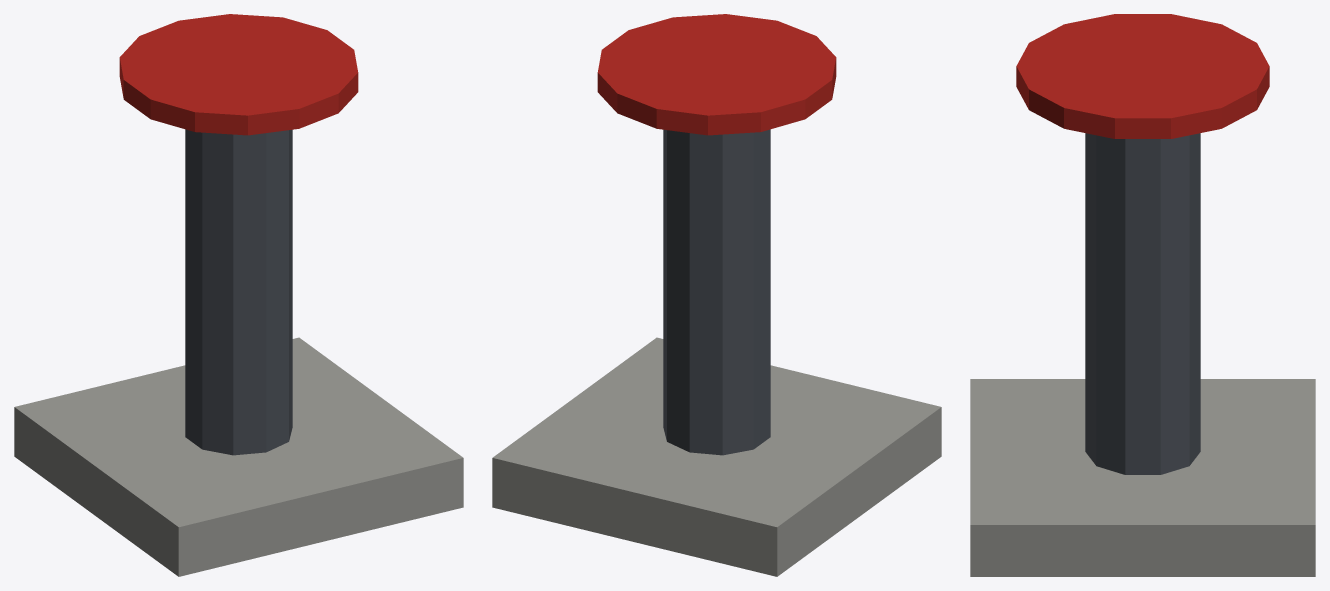
Rendered from pond valve.glb.
3 renders of one model, left to right at view 1: azimuth 30°, elevation 25°; view 2: azimuth 150°, elevation 25°; view 3: azimuth 270°, elevation 25°, orthographic. The views are drawn at different scales.
Parts seen in each view (by area): view 1: pond valve; view 2: pond valve; view 3: pond valve.
Boxes of the visible parts, x1,y1,x2,y2 form: pond valve: [14, 14, 463, 576]; pond valve: [492, 14, 941, 576]; pond valve: [970, 14, 1315, 576].
Bounding box in the file's own units: 0.6 × 0.84 × 0.6.
